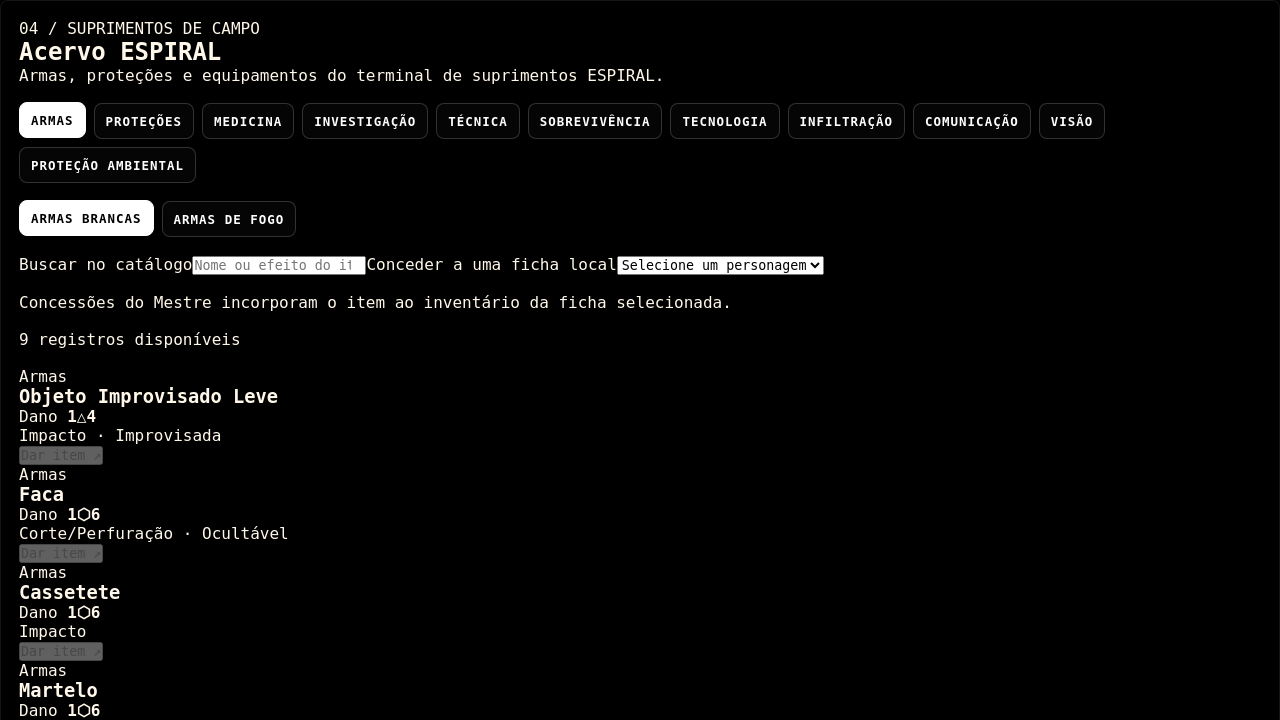
Scenario: exibe o acervo ESPIRAL e concede a arma selecionada
Check: the heading "Faca" is shown, box [19,484,64,505]
Click the button "Armas de fogo". click: (229, 219)
box: [162,201,296,237]
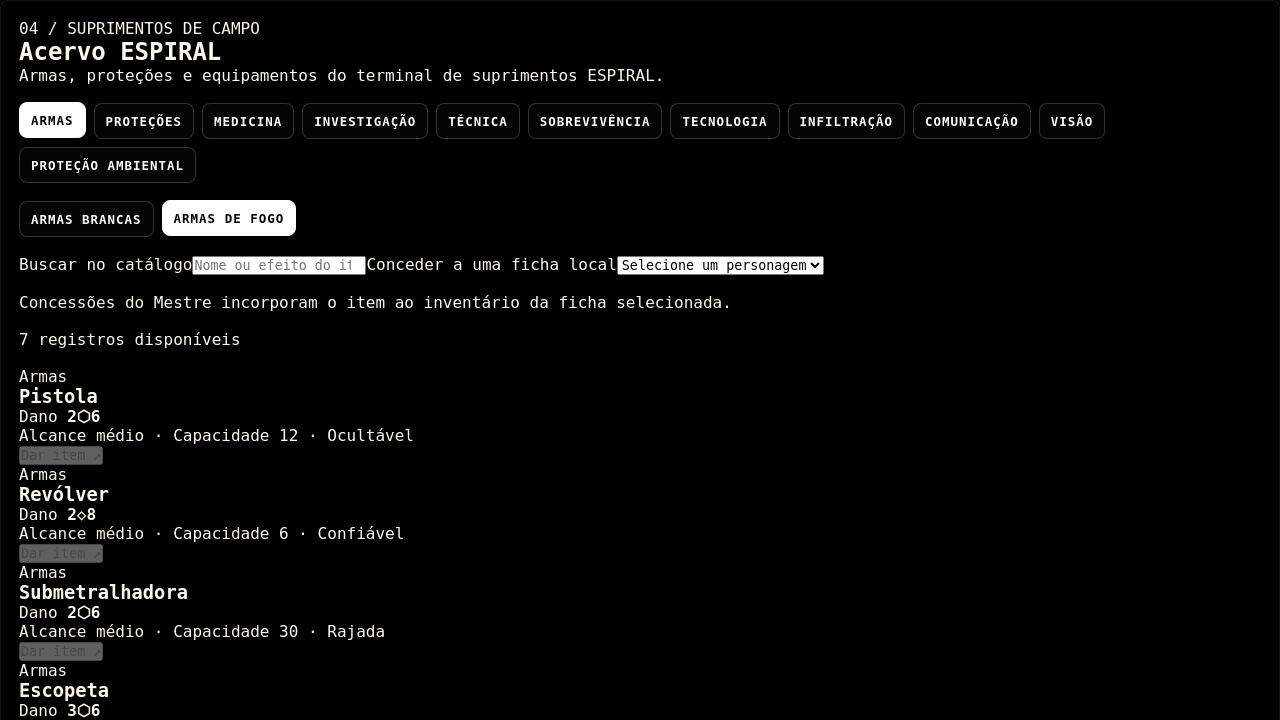
Check: the heading "Pistola" is shown, box [19,386,98,407]
Select "Ana · 123" in the dropdown labelled "Conceder a uma ficha local". click: (720, 266)
box: [617,256,824,275]
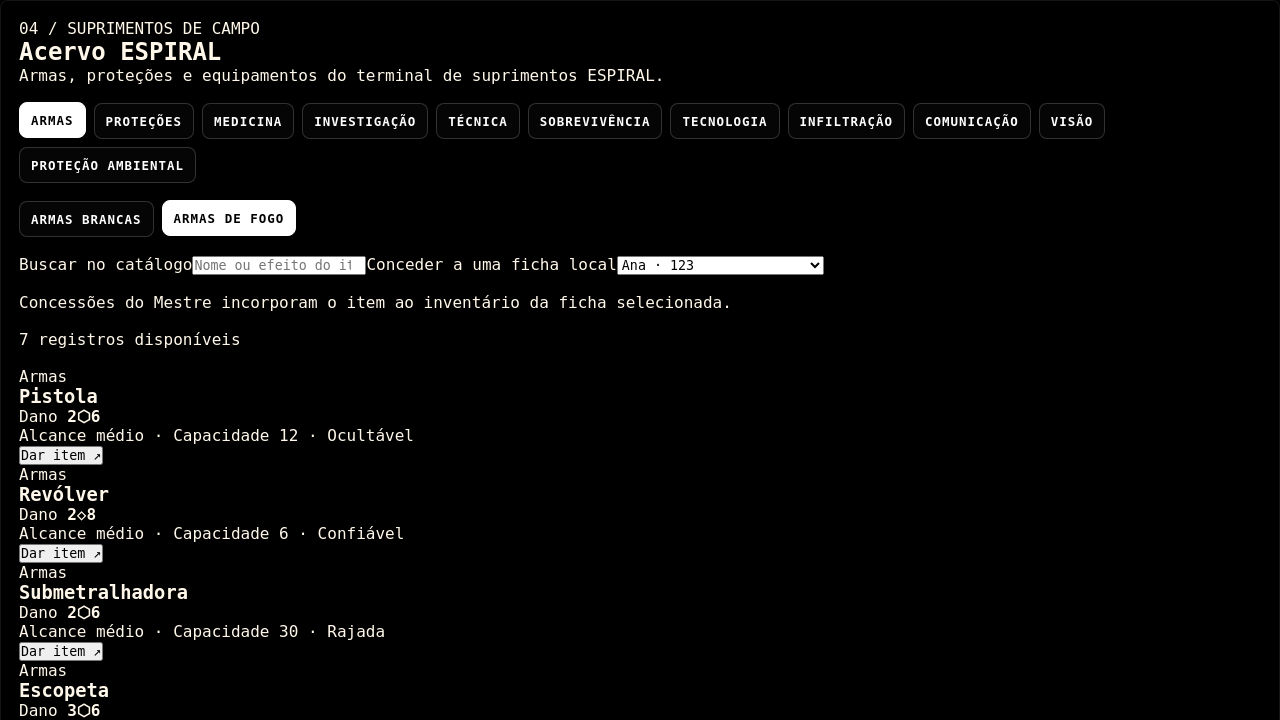
Click the button with aria-label "Conceder: Pistola". click: (61, 456)
box: [19,446,103,465]
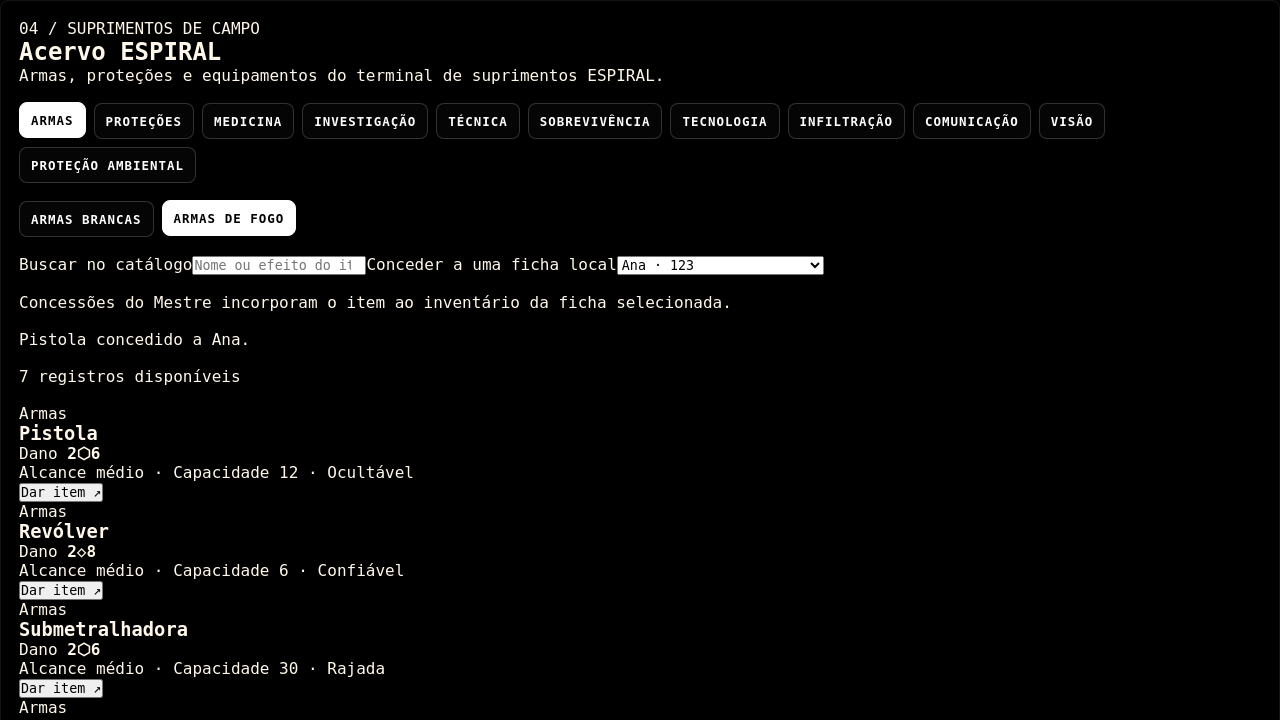
Click the button "Medicina". click: (248, 121)
box: [202,103,294,139]
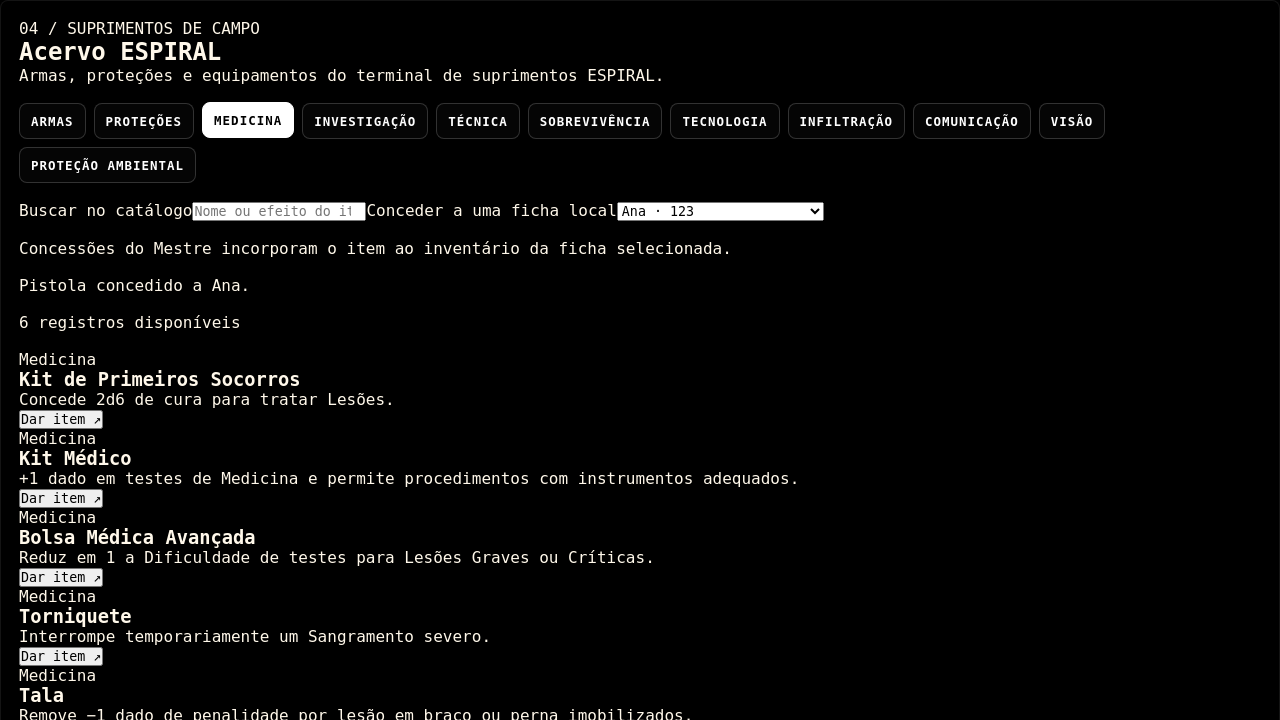
Type "torníquete" into the search field labelled "Buscar no catálogo". click: (279, 212)
box: [192,202,366,221]
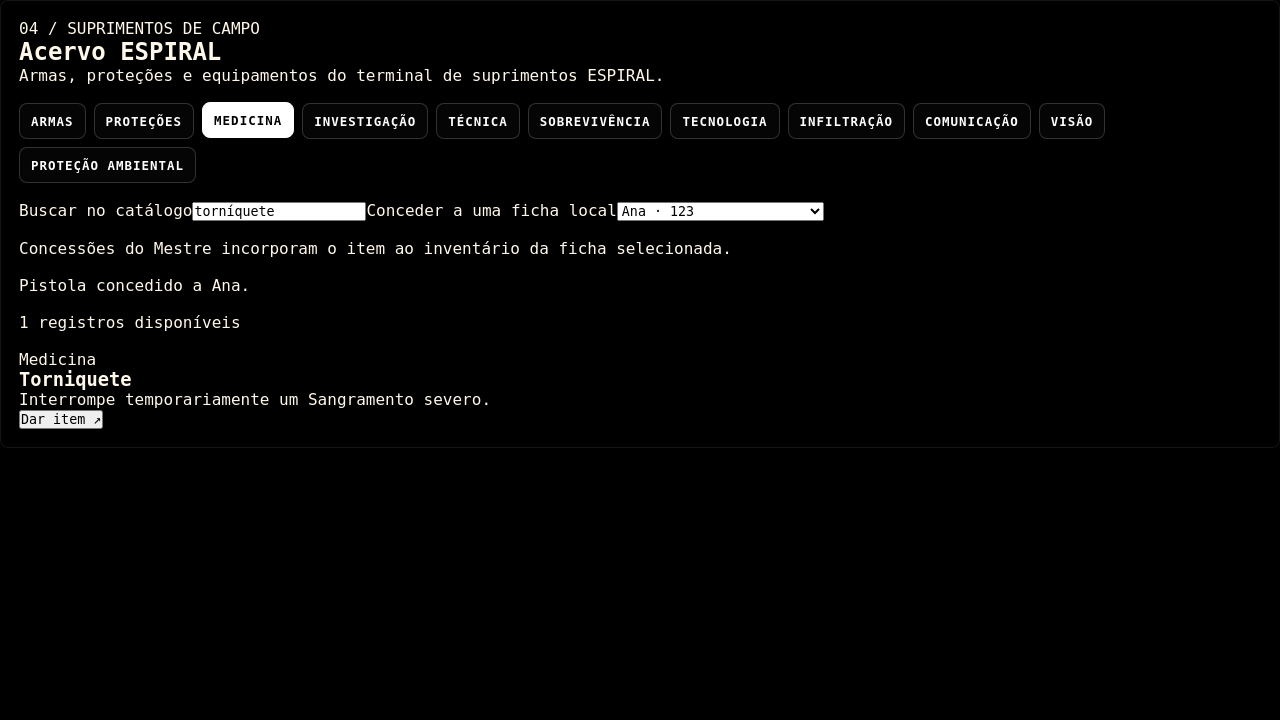
Check: the heading "Torniquete" is shown, box [19,369,132,390]
Check: the heading "Kit Médico" is gone
